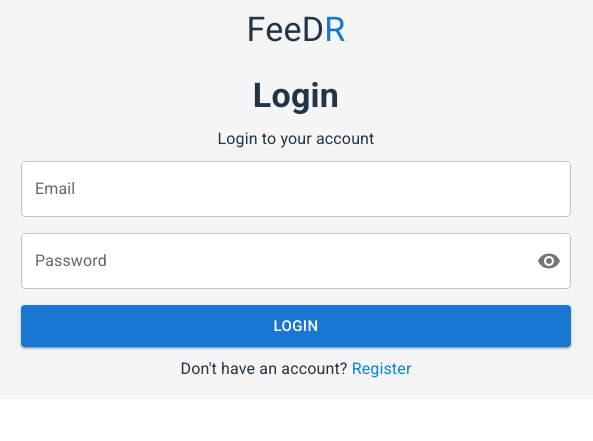
Test: shows error message for invalid email
Type "invalid-email" into the field labelled "Email".
click(296, 189); type("invalid-email")  # box [21,161,571,217]
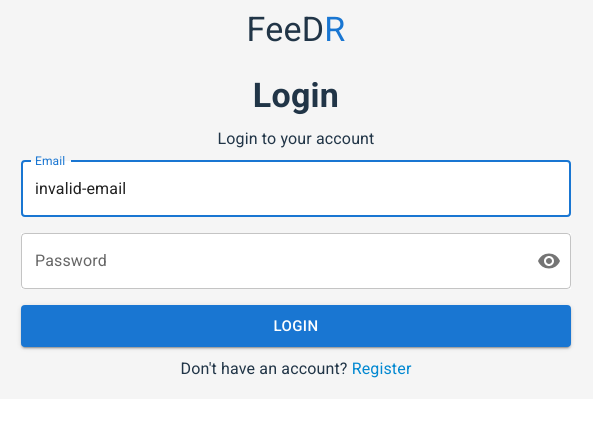
Click the button "Login".
click(296, 326)  # box [21,305,571,347]
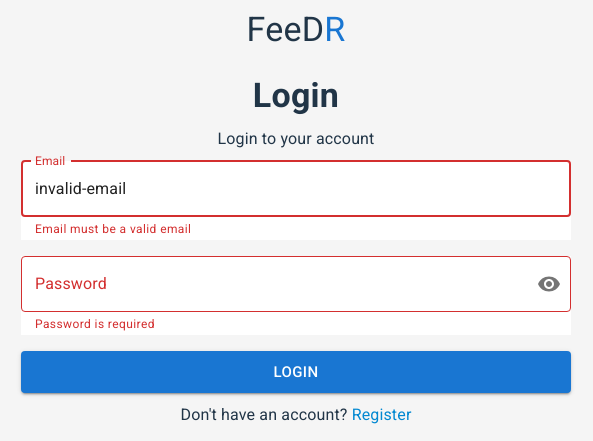
Now the text "Email must be a valid email" is shown, box [35,222,191,236]
